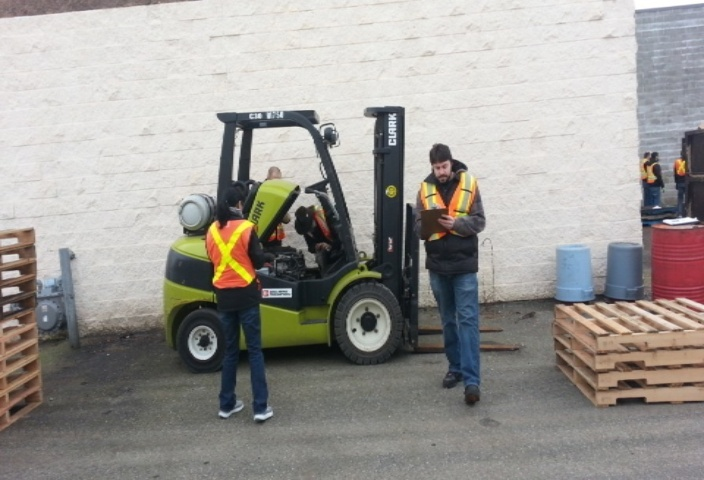industrial: (133, 97, 438, 391)
